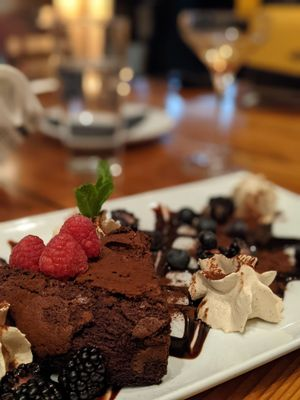curry: (0, 50, 300, 400)
sandwich: (175, 1, 267, 140)
sushi: (0, 207, 174, 395)
